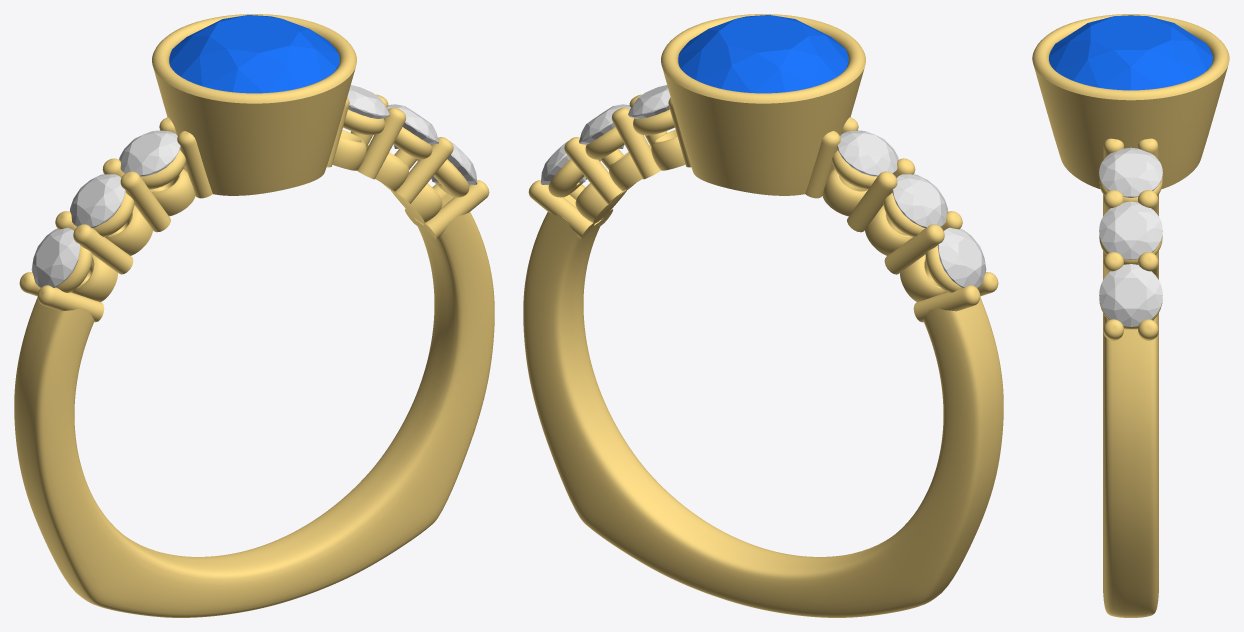
File: bluesapphire-round-yellowgold-bezelset-europeanshank-3stone.glb
3 renders of one model, left to right at view 1: azimuth 30°, elevation 25°; view 2: azimuth 150°, elevation 25°; view 3: azimuth 270°, elevation 25°, orthographic. The views are drawn at different scales.
Parts seen in each view (by area): view 1: metal, stone, side.001, side.002, side, side.003, side.004; view 2: metal, stone, side.001, side.002, side, side.003, side.004; view 3: metal, stone, side.005, side.004, side.003.
Part boxes in pixels (x1=…): metal: x1=14, y1=14, x2=494, y2=617; stone: x1=169, y1=15, x2=339, y2=93; side.001: x1=70, y1=174, x2=125, y2=227; side.002: x1=31, y1=227, x2=80, y2=287; side: x1=119, y1=130, x2=180, y2=176; side.003: x1=347, y1=85, x2=389, y2=118; side.004: x1=387, y1=104, x2=438, y2=148; metal: x1=523, y1=14, x2=1003, y2=617; stone: x1=678, y1=15, x2=848, y2=93; side.001: x1=892, y1=174, x2=948, y2=227; side.002: x1=937, y1=227, x2=986, y2=287; side: x1=837, y1=130, x2=898, y2=176; side.003: x1=628, y1=85, x2=670, y2=118; side.004: x1=579, y1=104, x2=630, y2=148; metal: x1=1032, y1=14, x2=1229, y2=617; stone: x1=1049, y1=15, x2=1212, y2=90; side.005: x1=1099, y1=264, x2=1162, y2=326; side.004: x1=1099, y1=201, x2=1162, y2=259; side.003: x1=1099, y1=147, x2=1162, y2=197.
Size of the model in its own units: 20.11 by 23.61 by 7.74.
